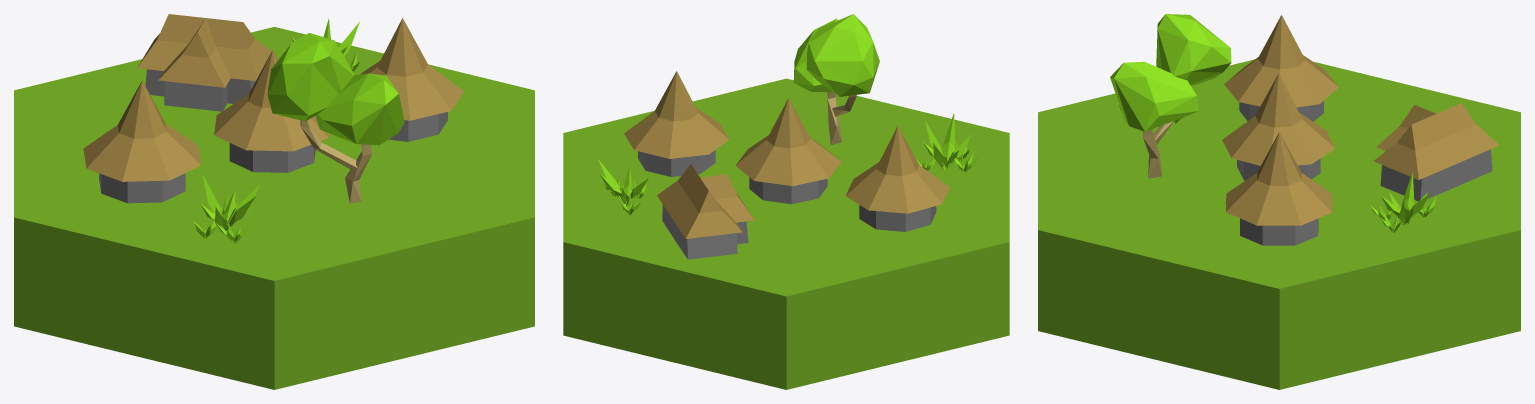
Rendered from Casas_Selva_8.fbx.
3 views of the same model, side by side, from view 1: azimuth 30°, elevation 25°; view 2: azimuth 150°, elevation 25°; view 3: azimuth 270°, elevation 25° (orthographic). The views are drawn at different scales.
Parts seen in each view (by area): view 1: Casas_Selva_8; view 2: Casas_Selva_8; view 3: Casas_Selva_8.
Boxes of the visible parts, bbox=[...] form: Casas_Selva_8: bbox=[14, 14, 534, 389]; Casas_Selva_8: bbox=[563, 14, 1009, 389]; Casas_Selva_8: bbox=[1038, 14, 1520, 389].
Size of the model in its own units: 200 by 99.25 by 173.
